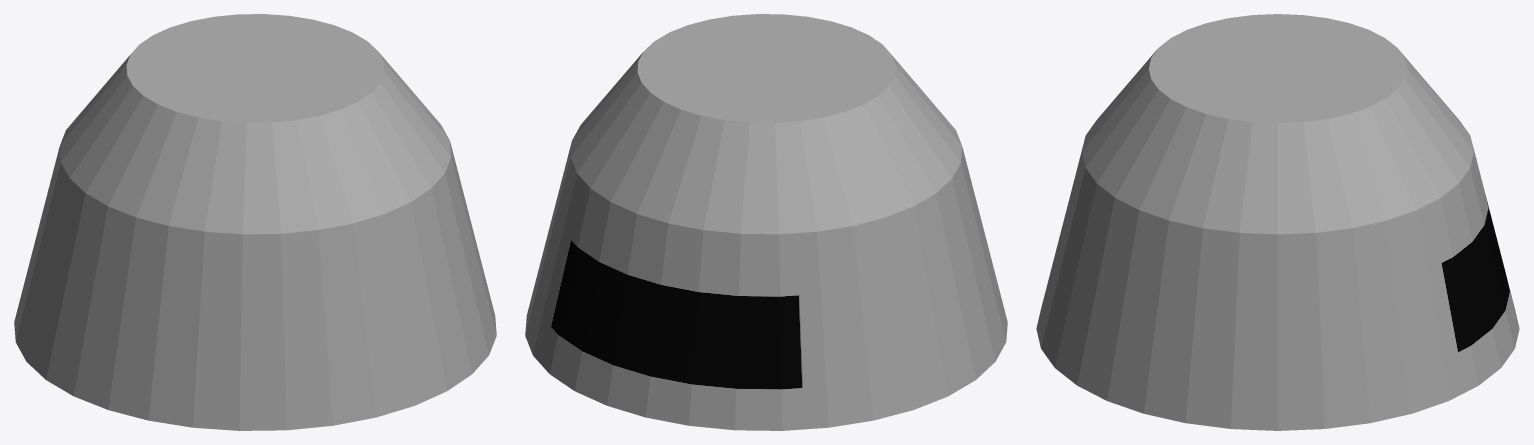
Rendered from starman.glb.
The picture shows the model from 3 angles, left to right: view 1: azimuth 30°, elevation 25°; view 2: azimuth 150°, elevation 25°; view 3: azimuth 270°, elevation 25°; orthographic projection.
Visible parts, largest first — view 1: starman; view 2: starman; view 3: starman.
Boxes of the visible parts, box(x1,y1,x2,y2) form: starman: box(14, 14, 496, 430); starman: box(525, 14, 1007, 430); starman: box(1036, 14, 1519, 430).
Bounding box in the file's own units: 1.39 × 0.8236 × 1.39.
Materials: 1 (1 with a texture image).
